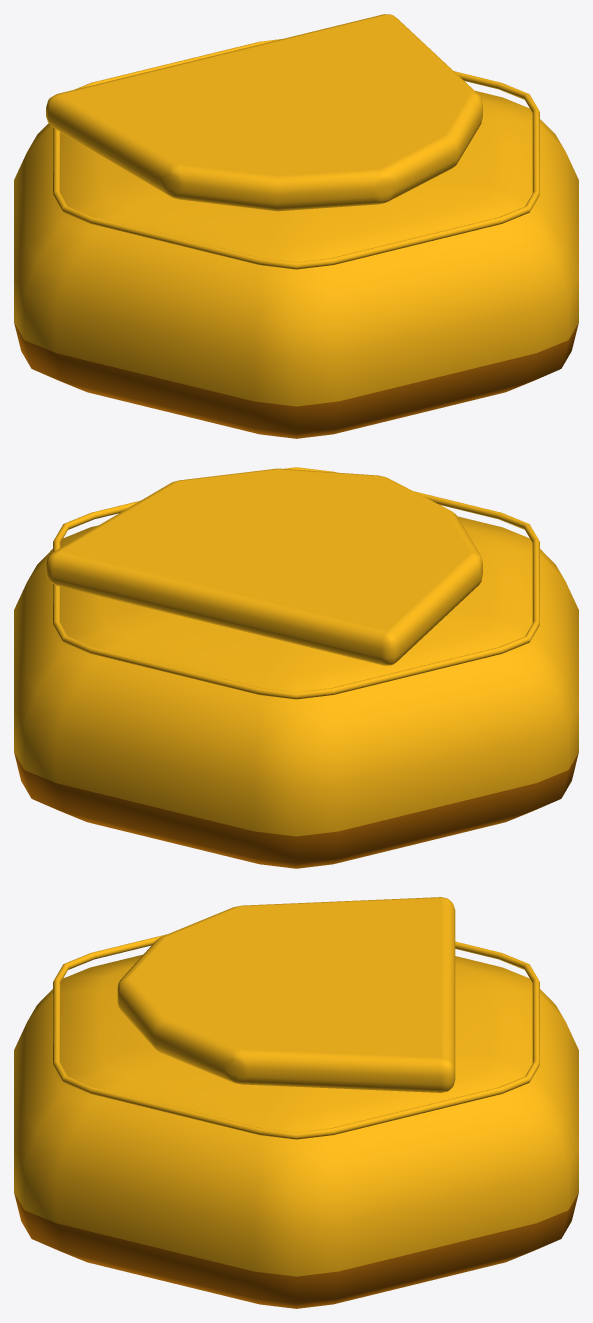
Rendered from HX_Stone_02_Yellow_ToneRelief_Blank.fbx.
The picture shows the model from 3 angles, top to bottom: view 1: azimuth 30°, elevation 25°; view 2: azimuth 150°, elevation 25°; view 3: azimuth 270°, elevation 25°; orthographic projection.
Visible parts, largest first — view 1: HX_V03_Yellow_Body, HX_ToneRelief_02, HX_V03_Yellow_InnerRim; view 2: HX_V03_Yellow_Body, HX_ToneRelief_02, HX_V03_Yellow_InnerRim; view 3: HX_V03_Yellow_Body, HX_ToneRelief_02, HX_V03_Yellow_InnerRim.
Boxes of the visible parts, x1,y1,x2,y2 form: HX_V03_Yellow_Body: (14,90,578,438); HX_ToneRelief_02: (46,14,482,211); HX_V03_Yellow_InnerRim: (53,39,539,269); HX_V03_Yellow_Body: (14,516,578,868); HX_ToneRelief_02: (46,468,482,665); HX_V03_Yellow_InnerRim: (53,467,539,699); HX_V03_Yellow_Body: (14,954,578,1308); HX_ToneRelief_02: (117,897,455,1092); HX_V03_Yellow_InnerRim: (53,934,539,1139).
Bounding box in the file's own units: 75.07 × 28.4 × 67.55.
